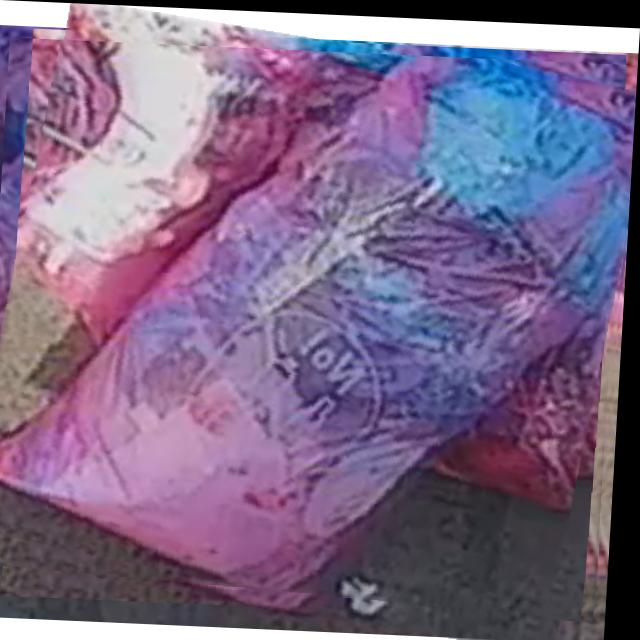other_trashbag: (0, 53, 631, 591)
